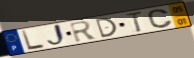C: (147, 8, 175, 29)
D: (94, 17, 119, 39)
J: (46, 23, 68, 48)
L: (20, 29, 47, 51)
R: (68, 20, 99, 43)
T: (124, 10, 145, 34)
